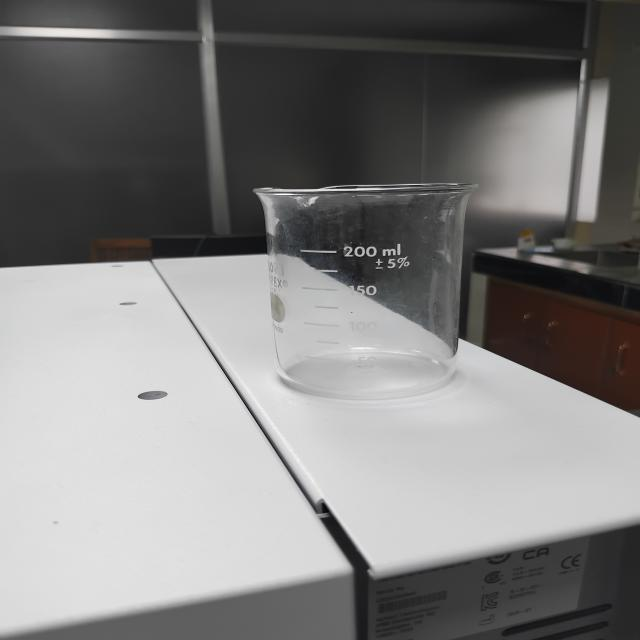Beaker: (219, 132, 524, 416)
